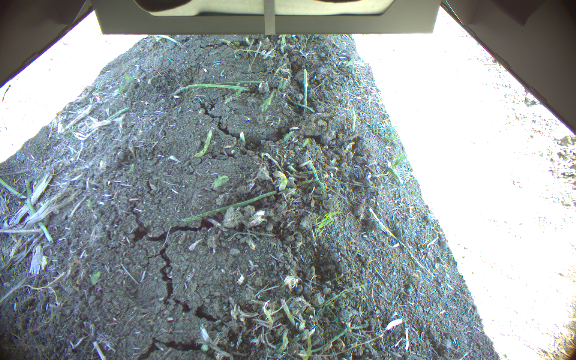aspa: (194, 129, 212, 158), (271, 170, 288, 192), (280, 34, 287, 51)
